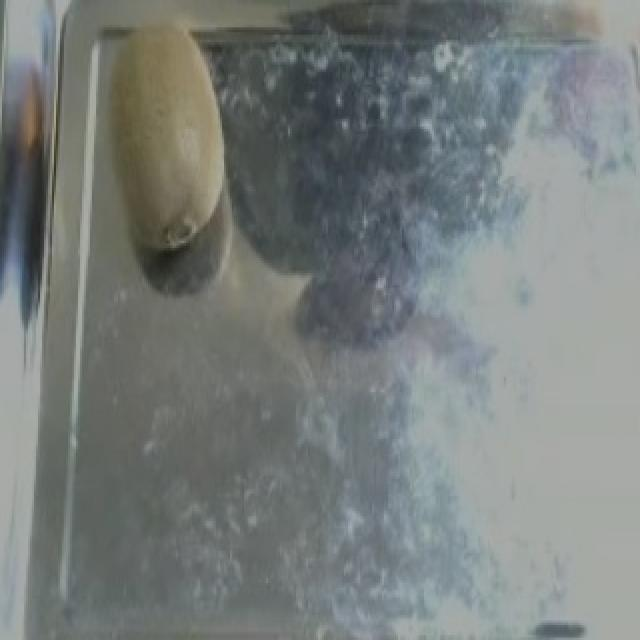Fruit: (62, 0, 242, 280)
